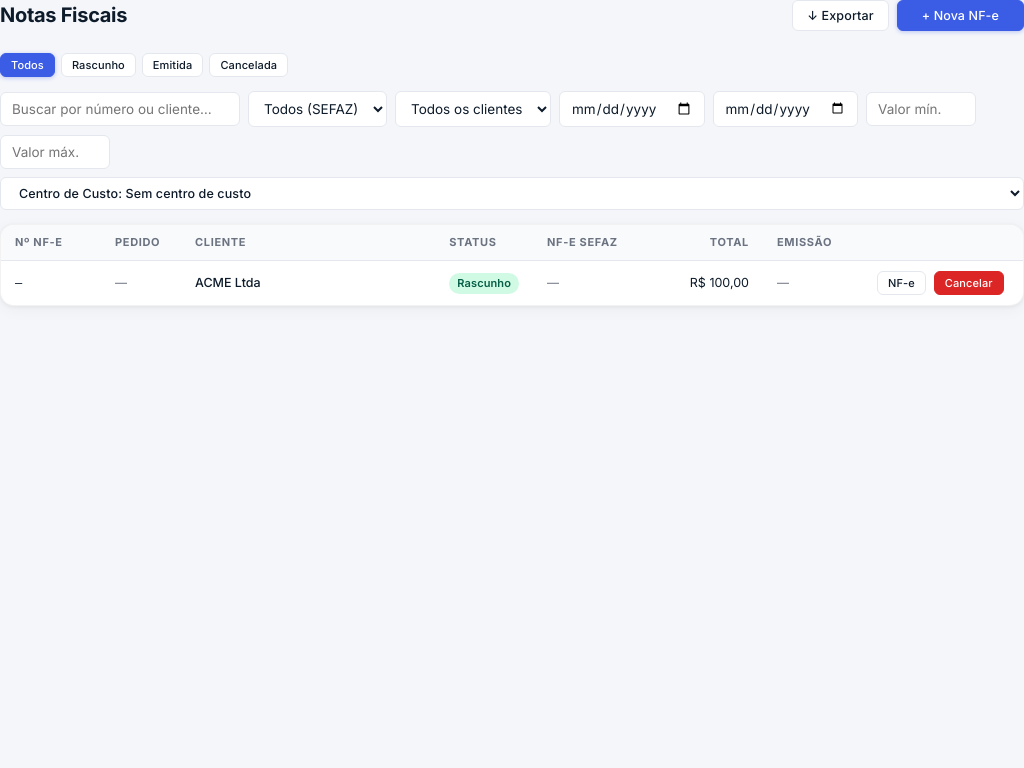
Scenario: InvoicesPage — botão único de emissão (regra 61) › clicar no botão da linha abre o painel de NF-e com "Enviar para SEFAZ" como único caminho de emissão real
This screenshot has width=1024, height=768.
Expected: the text "ACME Ltda" is shown, [181,260,435,305]
Click the button "NF-e" at [901, 283], box [877,271,926,295]
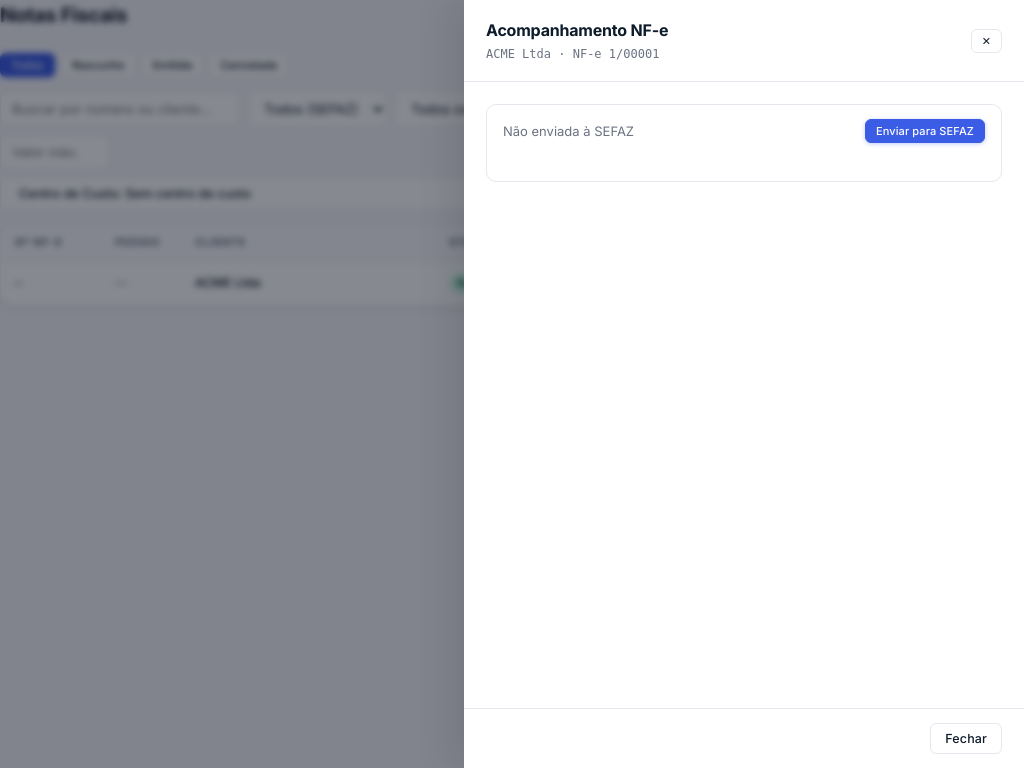
Expected: the button "Enviar para SEFAZ" is shown, [865,119,985,143]
